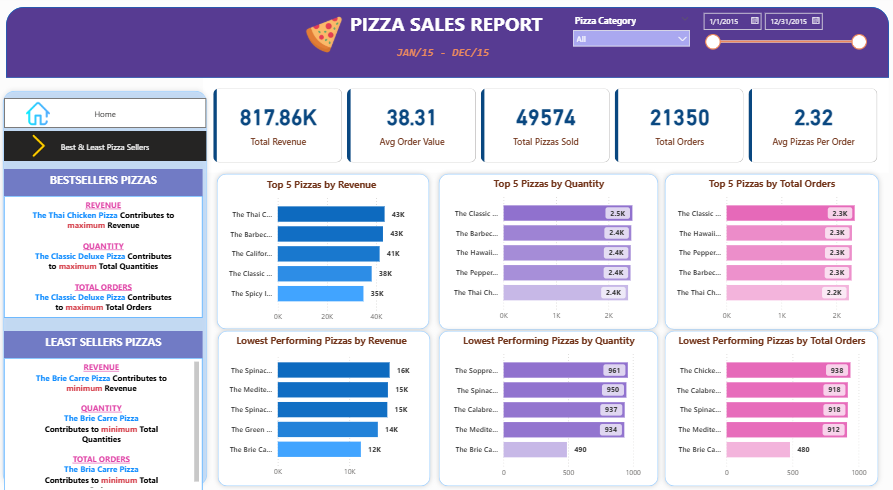

What the dashboard file says about the page in this screenshot:
{"tool":"powerbi","page":{"name":"Best & Least Pizza Sellers","canvas":[1500,820],"ordinal":1},"visuals":[{"type":"cardVisual","fields":{"Data":["pizza_sales.Total Revenue","pizza_sales.Avg Order Value","pizza_sales.Total Pizzas Sold","pizza_sales.Total Orders","pizza_sales.Avg Pizzas Per Order"]},"box":[341.7,131.7,1143.3,158.3],"z":1000},{"type":"shape","box":[13.3,13.3,1471.7,118.3],"z":2000},{"type":"textbox","title":"Pizza Sales Report Title","box":[581.7,13.3,336.7,60],"z":3000},{"type":"textbox","title":"Title Date Text","box":[653.3,73.3,176.7,33.3],"z":4000},{"type":"image","box":[483.3,28.3,120,61.7],"z":5000},{"type":"shape","box":[356.7,283.3,370,275],"z":6000},{"type":"shape","title":"Insights Blue Rectangle","box":[0,145,356.7,675],"z":14000},{"type":"textbox","title":"Busiest days & Time Text","box":[10,283.3,331.1,45.6],"z":15000},{"type":"textbox","box":[10,328.9,331.1,203.3],"z":17000},{"type":"textbox","title":"Busiest days & Time Text","box":[10,553.3,331.1,45.6],"z":18000},{"type":"textbox","box":[10,597.8,331.1,222.2],"z":19000},{"type":"slicer","fields":{"Values":["pizza_sales.pizza_category"]},"box":[948.3,20,215,103.3],"z":20000},{"type":"slicer","fields":{"Values":["pizza_sales.order_date"]},"box":[1163.3,13.3,293.3,110],"z":21000},{"type":"shape","box":[727.1,282.9,381.4,275.7],"z":21001},{"type":"shape","box":[1102.9,282.9,372.9,275.7],"z":21002},{"type":"shape","box":[358.3,545,370,275],"z":21003},{"type":"shape","box":[1103.3,545,371.7,275],"z":21004},{"type":"shape","box":[726.7,545,381.7,275],"z":21005},{"type":"barChart","title":"Top 5 Pizzas by Revenue","fields":{"Category":["pizza_sales.pizza_name"],"Y":["pizza_sales.Total Revenue"]},"box":[368.8,297.5,341.2,248.8],"z":21006},{"type":"barChart","title":"Lowest Performing Pizzas by Revenue","fields":{"Category":["pizza_sales.pizza_name"],"Y":["pizza_sales.Total Revenue"]},"box":[369,559,341,248],"z":21007},{"type":"barChart","title":"Top 5 Pizzas by Quantity","fields":{"Category":["pizza_sales.pizza_name"],"Y":["pizza_sales.Total Pizzas Sold"]},"box":[741.2,296.2,352.5,248.8],"z":21008},{"type":"barChart","title":"Lowest Performing Pizzas by Quantity","fields":{"Category":["pizza_sales.pizza_name"],"Y":["pizza_sales.Total Pizzas Sold"]},"box":[741.2,558.8,352.5,248.8],"z":21009},{"type":"barChart","title":"Top 5 Pizzas by Total Orders","fields":{"Category":["pizza_sales.pizza_name"],"Y":["pizza_sales.Total Orders"]},"box":[1112.5,296.2,352.5,248.8],"z":21010},{"type":"barChart","title":"Lowest Performing Pizzas by Total Orders","fields":{"Category":["pizza_sales.pizza_name"],"Y":["pizza_sales.Total Orders"]},"box":[1112.5,558.8,352.5,248.8],"z":21011},{"type":"pageNavigator","box":[10,220.5,337.9,50],"z":21012},{"type":"pageNavigator","box":[10,165.8,337.9,50],"z":21013},{"type":"image","box":[47.1,155.7,40,71.4],"z":21014},{"type":"image","box":[48.6,217.1,38.6,55.7],"z":21015}]}

Visuals, with their boxes in screenshot pixels (x1, y1, x2, y2), scaled from the page's 1500x820 canvas onto the 893x490 screenshot:
cardVisual - pizza_sales.Total Revenue x pizza_sales.Avg Order Value: x1=203 y1=79 x2=884 y2=173
shape: x1=8 y1=8 x2=884 y2=79
"Pizza Sales Report Title" textbox: x1=346 y1=8 x2=547 y2=44
"Title Date Text" textbox: x1=389 y1=44 x2=494 y2=64
image: x1=288 y1=17 x2=359 y2=54
shape: x1=212 y1=169 x2=433 y2=334
"Insights Blue Rectangle" shape: x1=0 y1=87 x2=212 y2=489
"Busiest days & Time Text" textbox: x1=6 y1=169 x2=203 y2=197
textbox: x1=6 y1=197 x2=203 y2=318
"Busiest days & Time Text" textbox: x1=6 y1=331 x2=203 y2=358
textbox: x1=6 y1=357 x2=203 y2=489
slicer - pizza_sales.pizza_category: x1=565 y1=12 x2=693 y2=74
slicer - pizza_sales.order_date: x1=693 y1=8 x2=867 y2=74
shape: x1=433 y1=169 x2=660 y2=334
shape: x1=657 y1=169 x2=879 y2=334
shape: x1=213 y1=326 x2=434 y2=489
shape: x1=657 y1=326 x2=878 y2=489
shape: x1=433 y1=326 x2=660 y2=489
"Top 5 Pizzas by Revenue" barChart: x1=220 y1=178 x2=423 y2=326
"Lowest Performing Pizzas by Revenue" barChart: x1=220 y1=334 x2=423 y2=482
"Top 5 Pizzas by Quantity" barChart: x1=441 y1=177 x2=651 y2=326
"Lowest Performing Pizzas by Quantity" barChart: x1=441 y1=334 x2=651 y2=483
"Top 5 Pizzas by Total Orders" barChart: x1=662 y1=177 x2=872 y2=326
"Lowest Performing Pizzas by Total Orders" barChart: x1=662 y1=334 x2=872 y2=483
pageNavigator: x1=6 y1=132 x2=207 y2=162
pageNavigator: x1=6 y1=99 x2=207 y2=129
image: x1=28 y1=93 x2=52 y2=136
image: x1=29 y1=130 x2=52 y2=163
